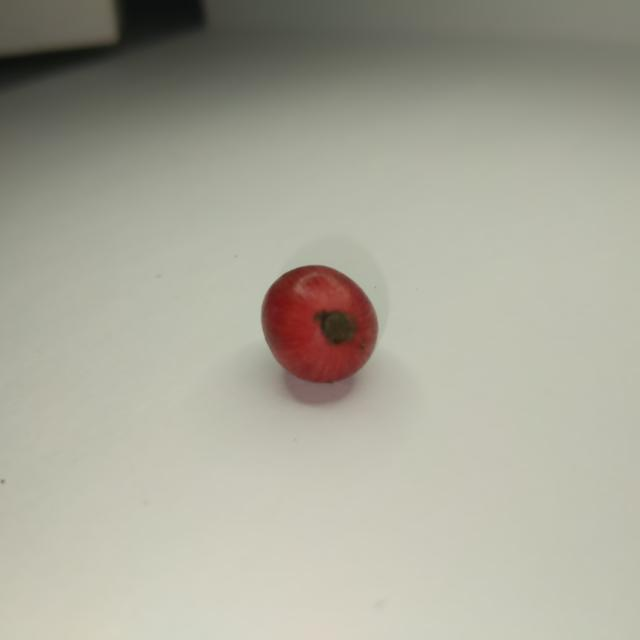Infectado: (261, 265, 378, 383)
